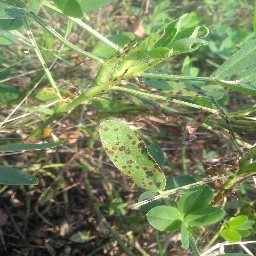GroundNut_Leaf: (97, 116, 170, 193), (209, 45, 255, 76), (1, 164, 38, 191), (145, 207, 184, 231), (186, 207, 226, 230), (178, 185, 213, 204), (229, 213, 250, 229), (221, 231, 242, 244)
